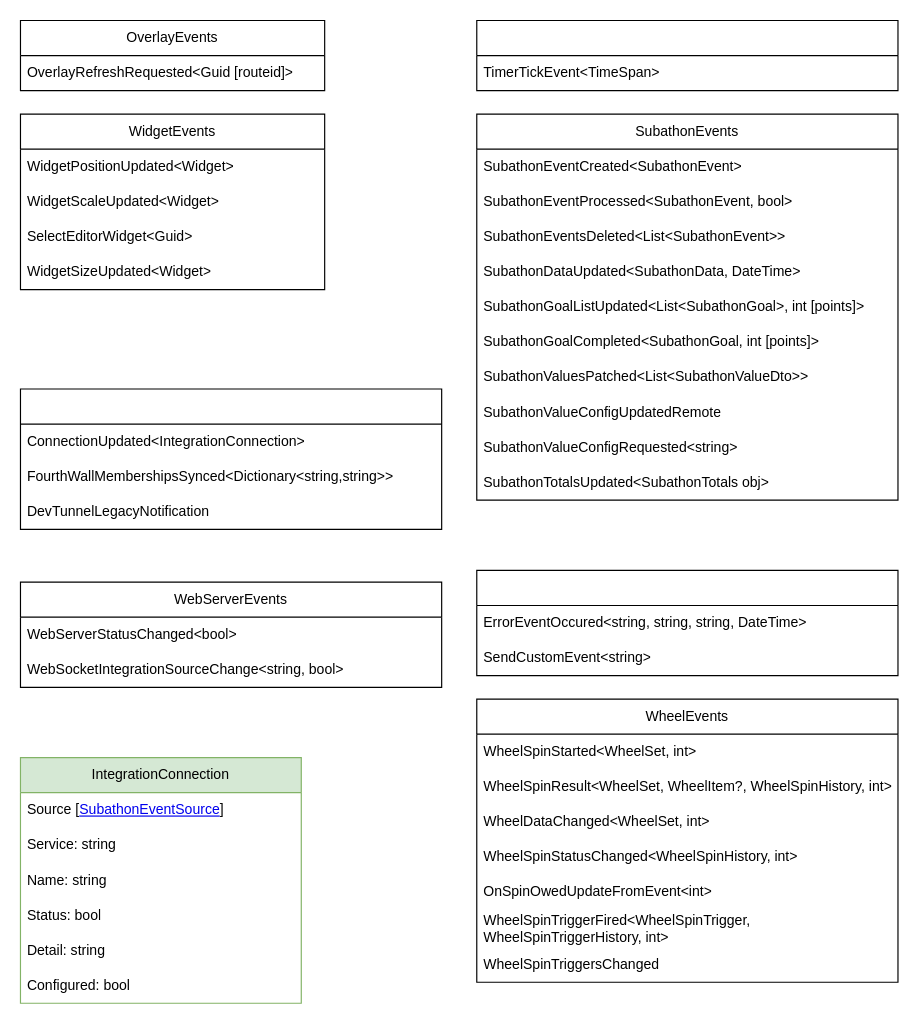
This 918x1024 diagram has some shape labels left out. Each missing label, with the box of its shape:
ErrorMessageEvents: (476, 569, 898, 676)
IntegrationEvents: (19, 388, 442, 529)
TimerEvents: (476, 19, 898, 91)
